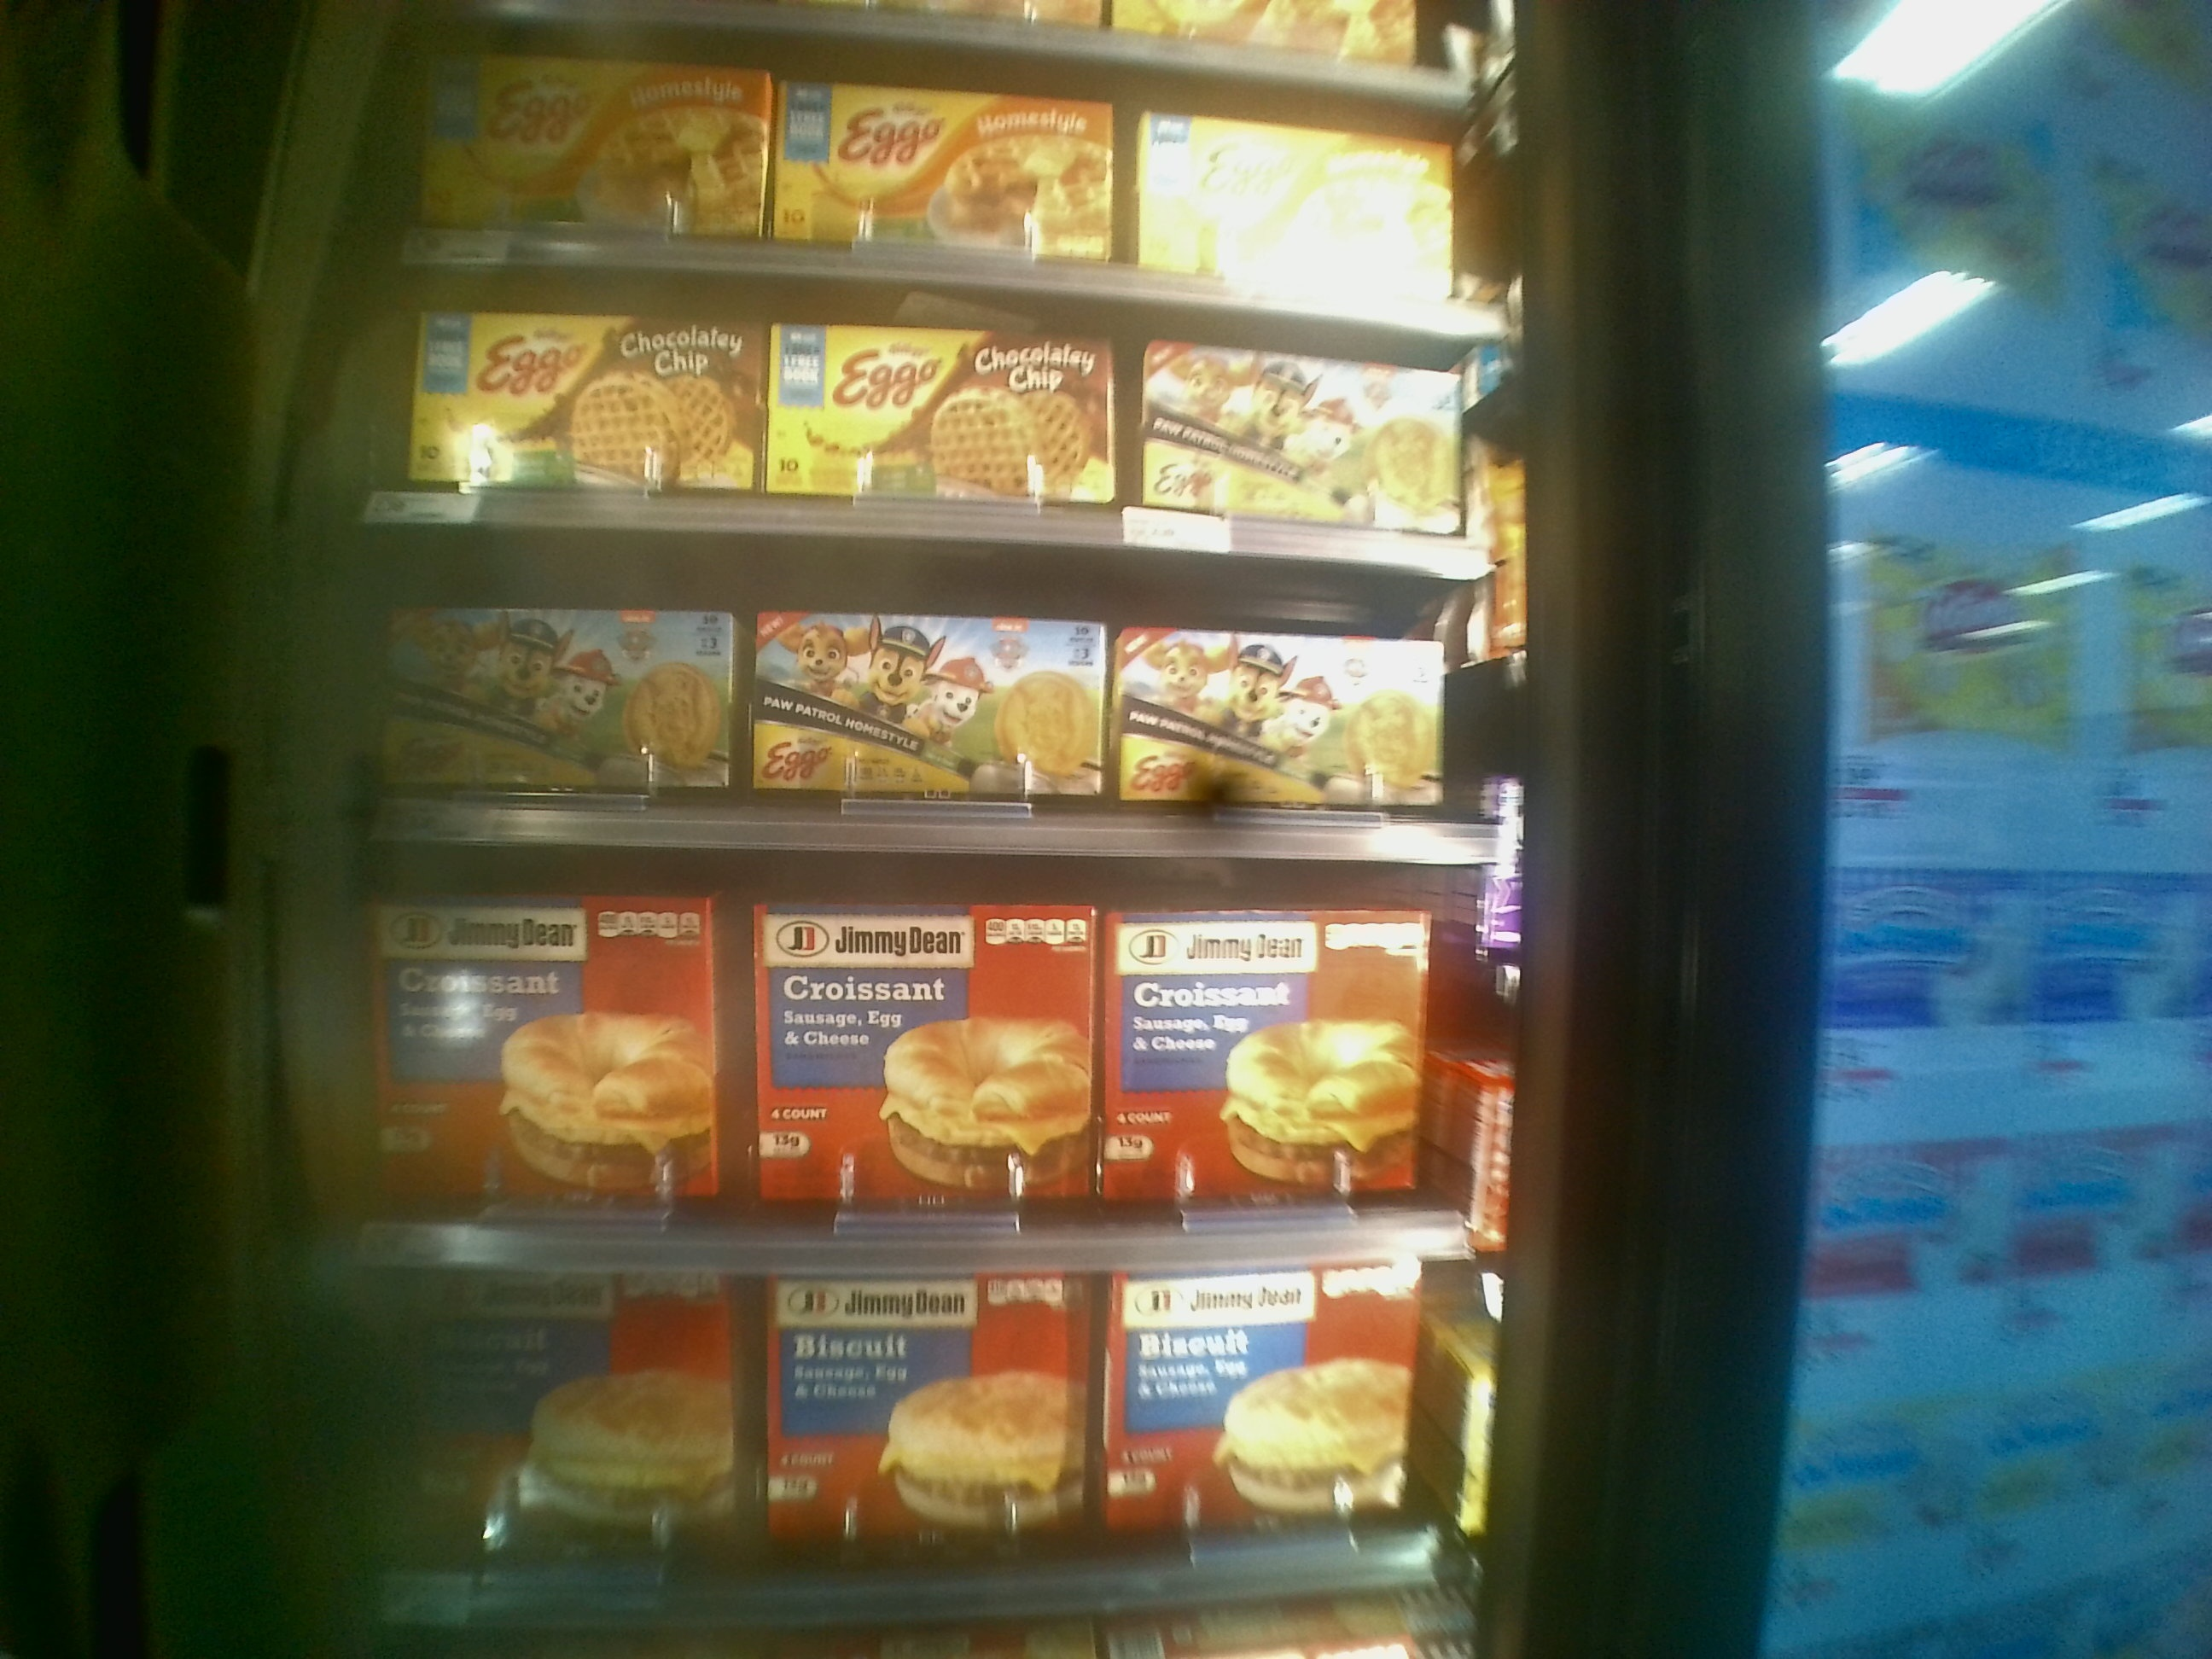shelf: (355, 838, 1472, 1256)
